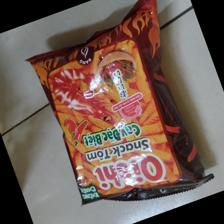Oishi_Cay: (23, 1, 216, 209)
